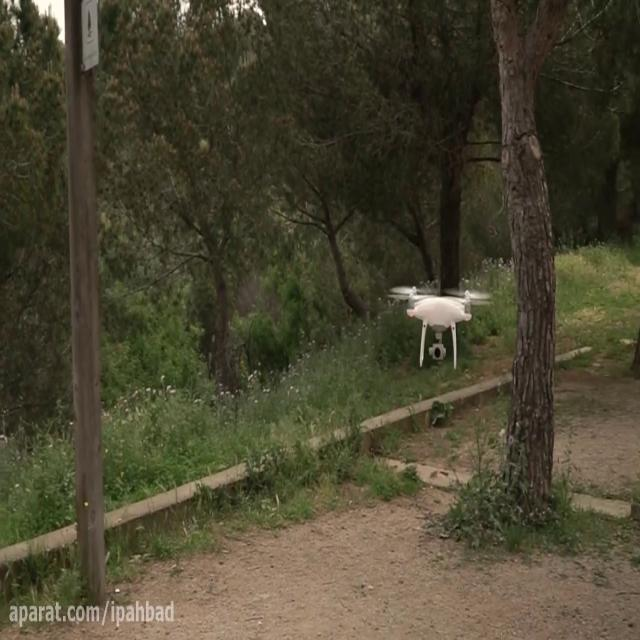drone: (384, 282, 491, 370)
